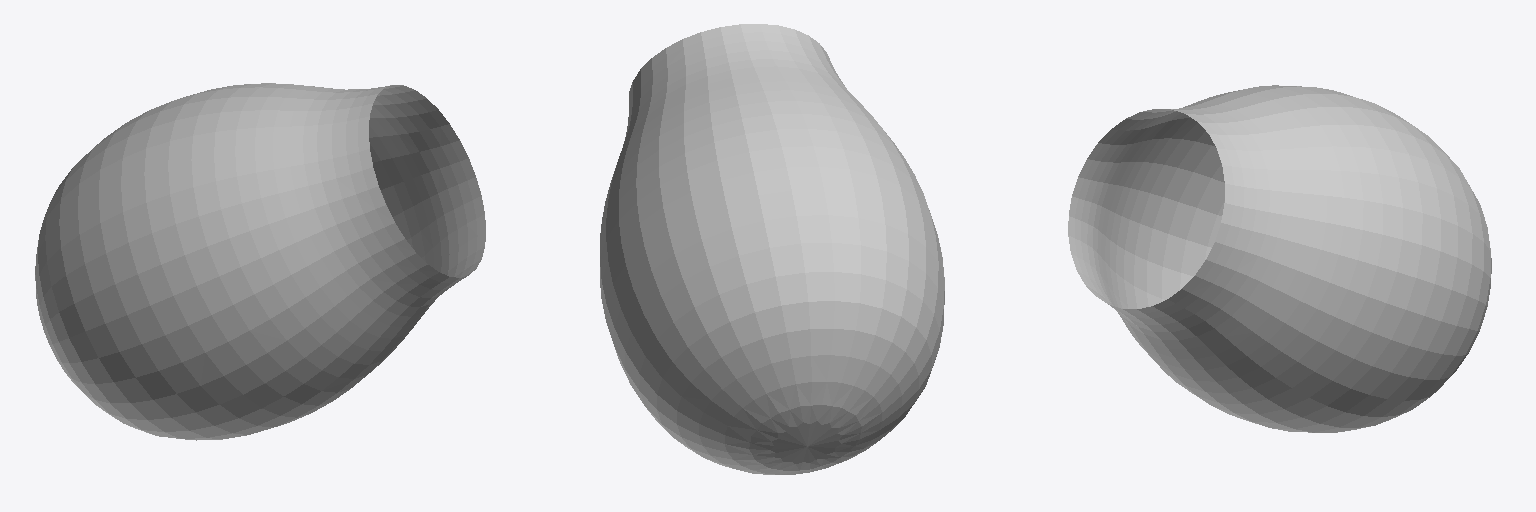
File: Hektar_light_bulb.obj
3 views of the same model, side by side, from view 1: azimuth 30°, elevation 25°; view 2: azimuth 150°, elevation 25°; view 3: azimuth 270°, elevation 25° (orthographic).
Visible parts, largest first — view 1: Circle.002_Circle.002; view 2: Circle.002_Circle.002; view 3: Circle.002_Circle.002.
Boxes of the visible parts, box(x1,y1,x2,y2) form: Circle.002_Circle.002: box(35, 83, 485, 440); Circle.002_Circle.002: box(600, 24, 944, 474); Circle.002_Circle.002: box(1068, 85, 1491, 432).
Bounding box in the file's own units: 0.0335 × 0.0322 × 0.0346.